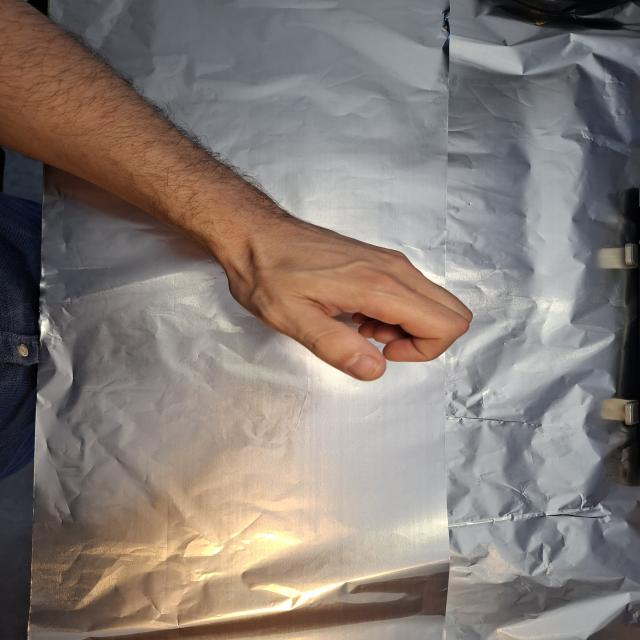glove_off: (195, 197, 478, 385)
